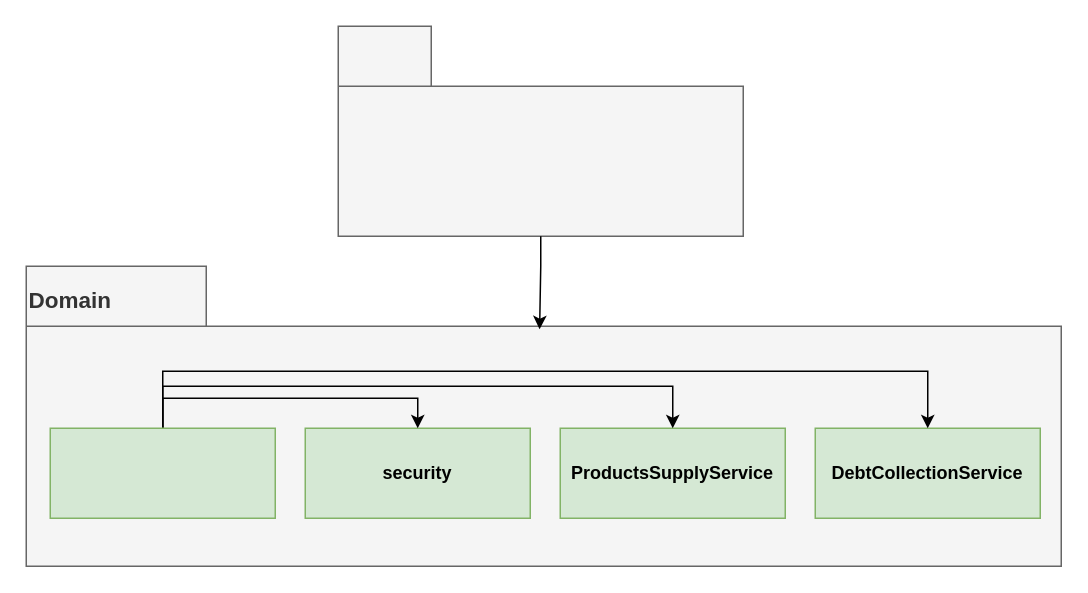
Image size: 1088x593. Some labels were removed from this diagram. The shapes that lost their labels are listed below. From the top down, each one's box as (x1, y1, x2, y2) in pixels, then its label:
(337, 25, 743, 236): Service
(49, 427, 275, 518): Market
